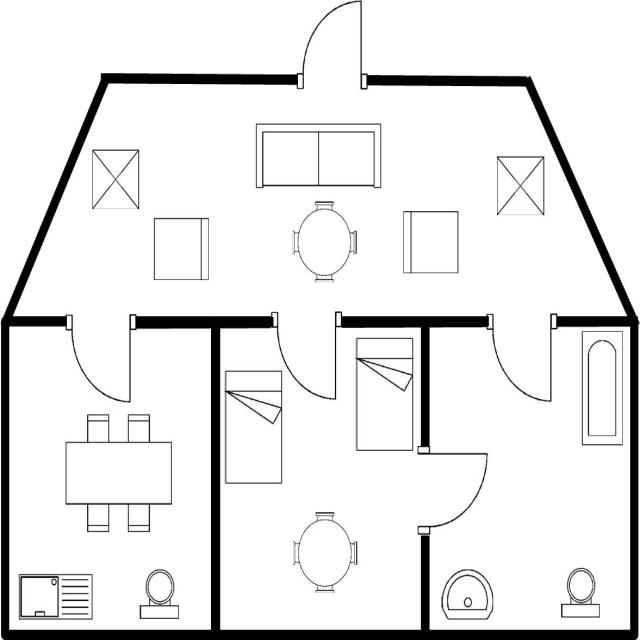bed: (220, 364, 286, 489), (350, 332, 415, 456)
coffee_table: (59, 408, 176, 537), (489, 151, 550, 221), (88, 145, 140, 212)
large_sink: (435, 563, 495, 624), (554, 561, 604, 622), (136, 562, 185, 624)
large_sofa: (250, 116, 387, 194)
round_table: (286, 504, 363, 596), (288, 198, 361, 288)
sink: (14, 567, 99, 625)
small_sink: (436, 560, 496, 622)
small_sofa: (397, 207, 463, 280), (150, 212, 212, 286)
tub: (576, 326, 626, 452)
